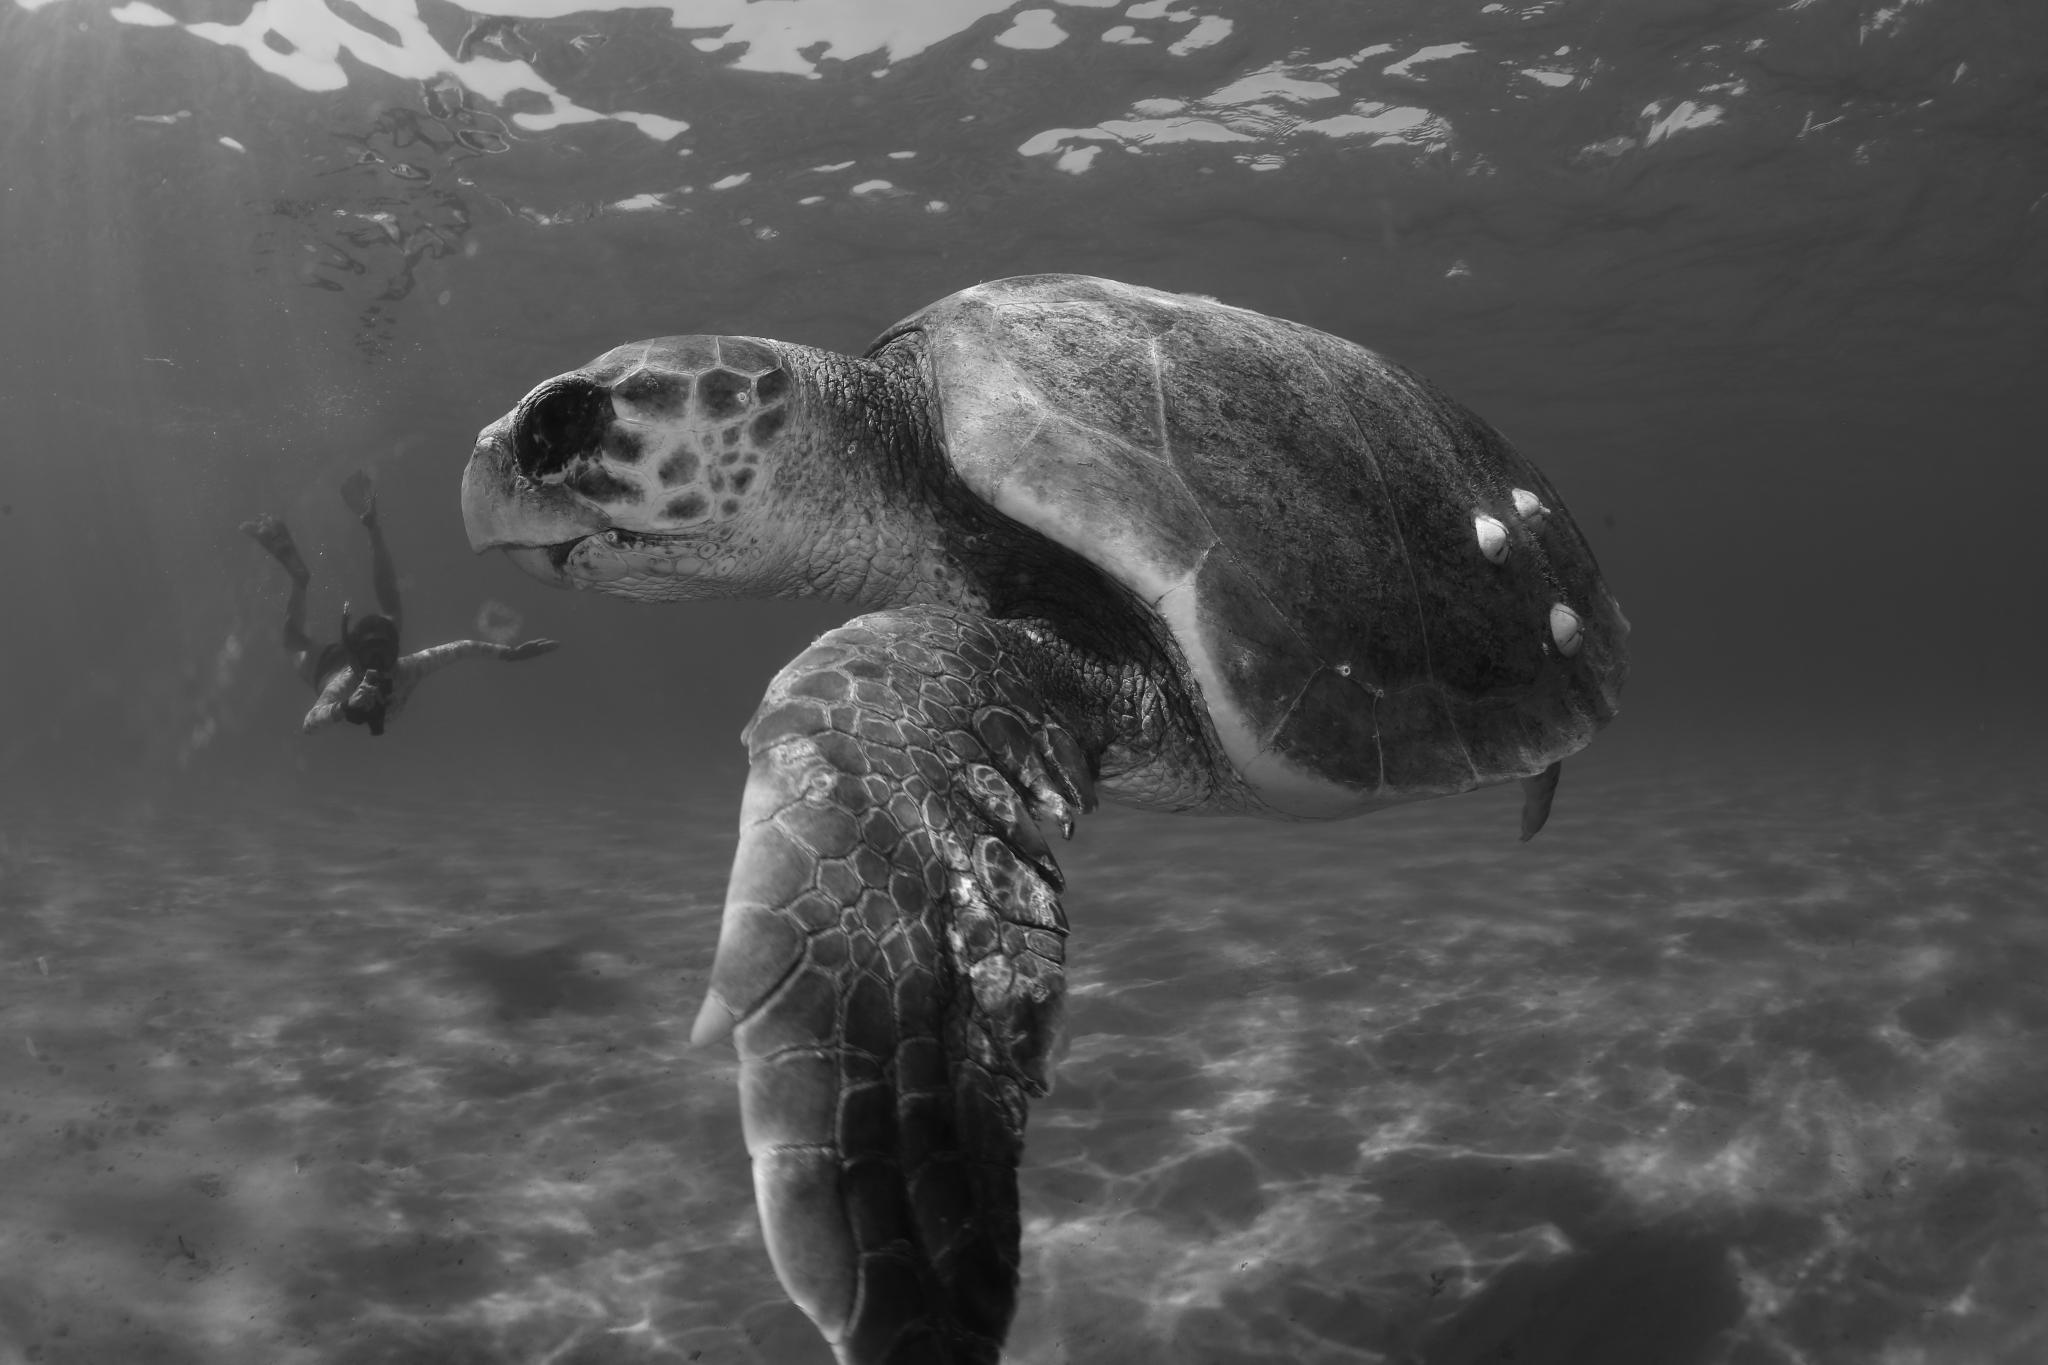Head: (462, 336, 884, 604)
